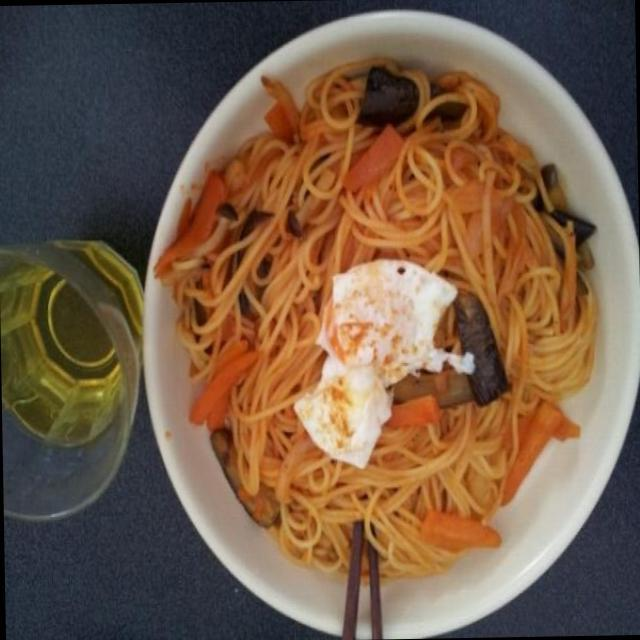Pasta: (172, 81, 592, 583)
